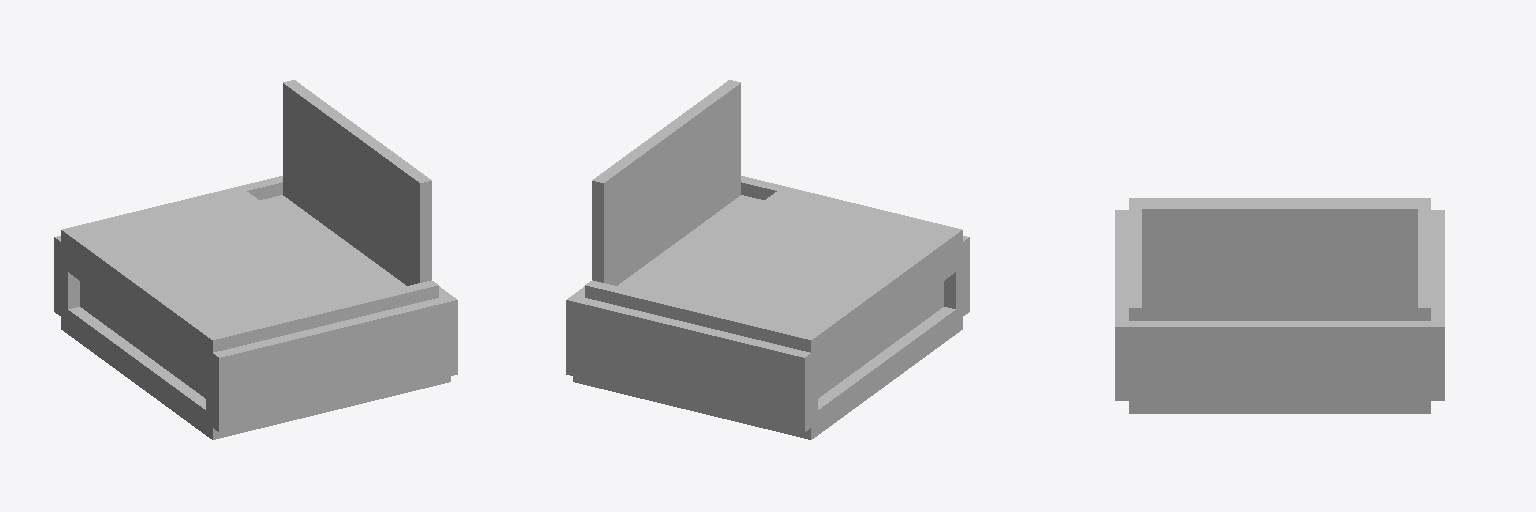
File: network types-1-printer.obj
3 views of the same model, side by side, from view 1: azimuth 30°, elevation 25°; view 2: azimuth 150°, elevation 25°; view 3: azimuth 270°, elevation 25° (orthographic).
Visible parts, largest first — view 1: printer; view 2: printer; view 3: printer.
Boxes of the visible parts, x1=… form: printer: x1=54, y1=80, x2=457, y2=439; printer: x1=566, y1=80, x2=969, y2=439; printer: x1=1115, y1=198, x2=1444, y2=413.
Bounding box in the file's own units: 2 × 1.6 × 2.4.